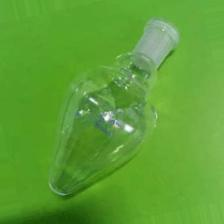Pear shaped flask: (33, 26, 182, 197)
